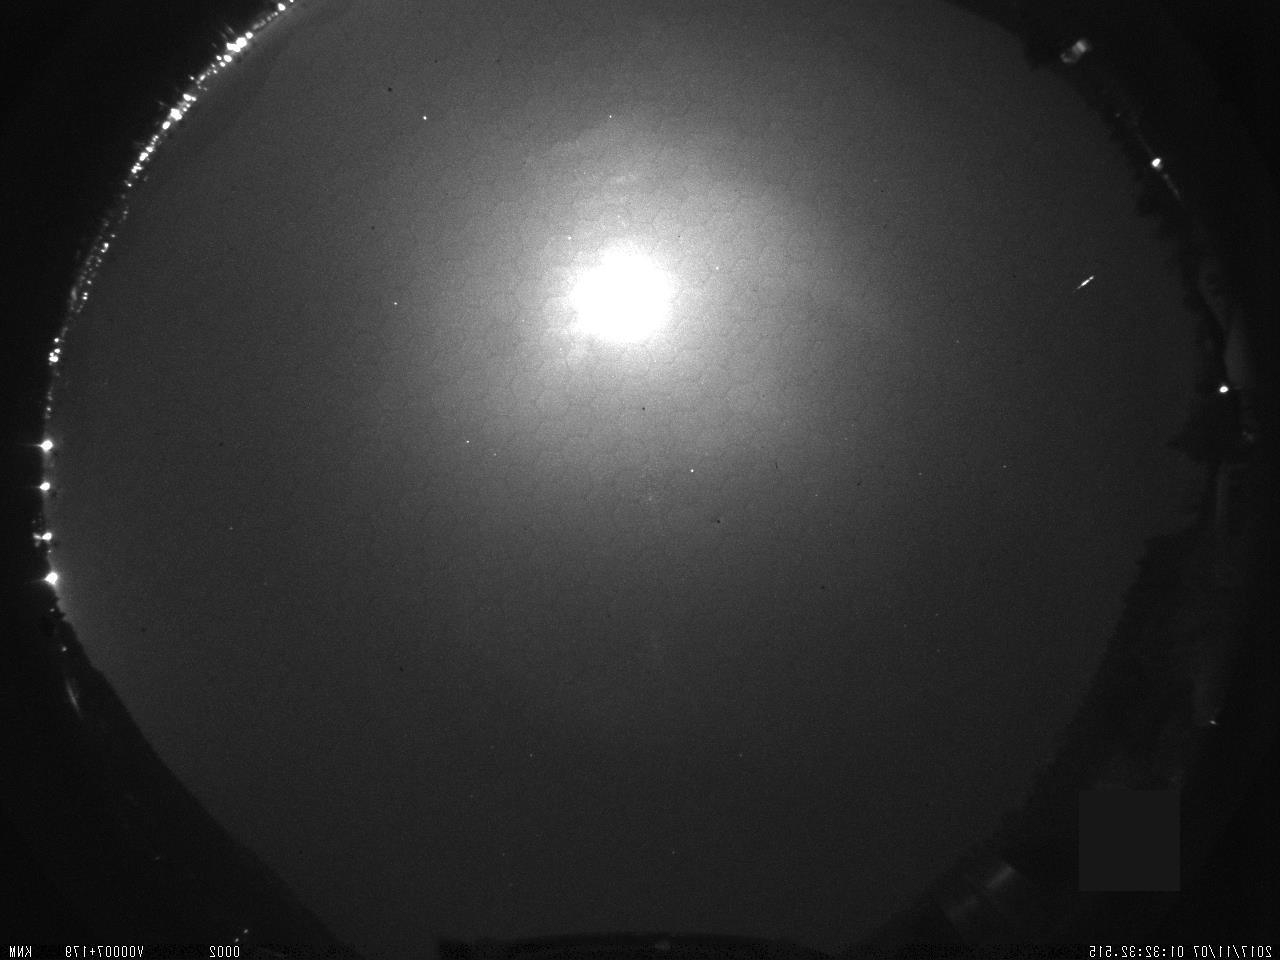meteor: (1061, 266, 1103, 307)
